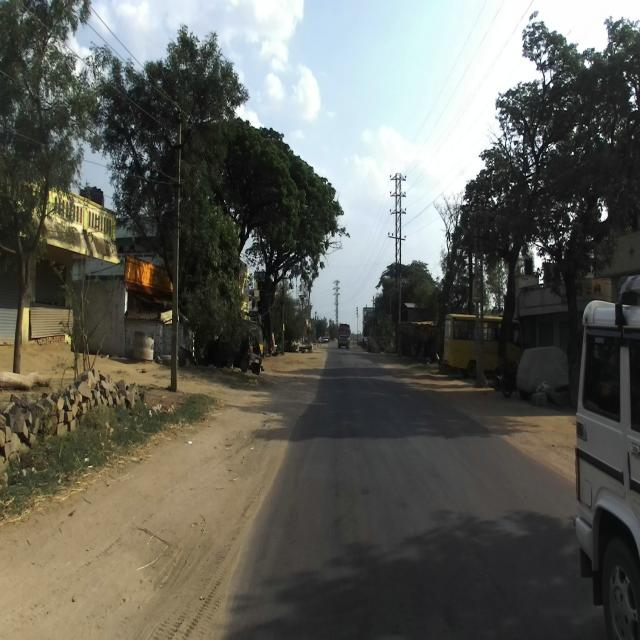car: (572, 272, 640, 639), (515, 345, 569, 397)
mini-bus: (442, 312, 523, 380)
